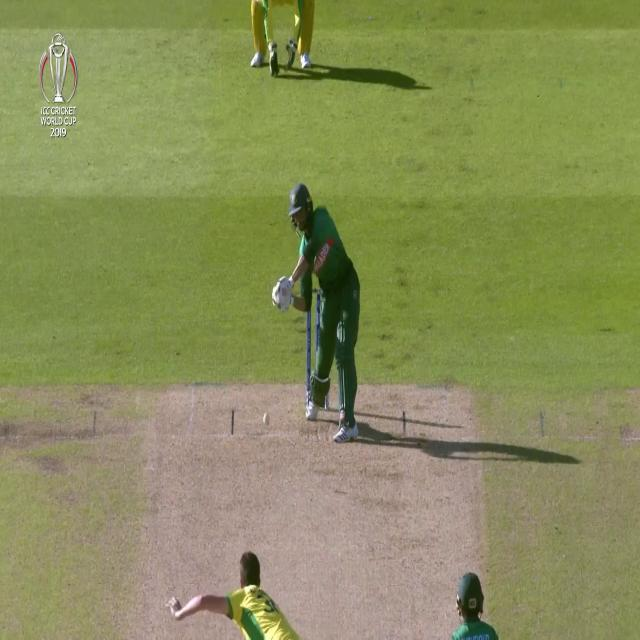ball: (260, 409, 272, 430)
